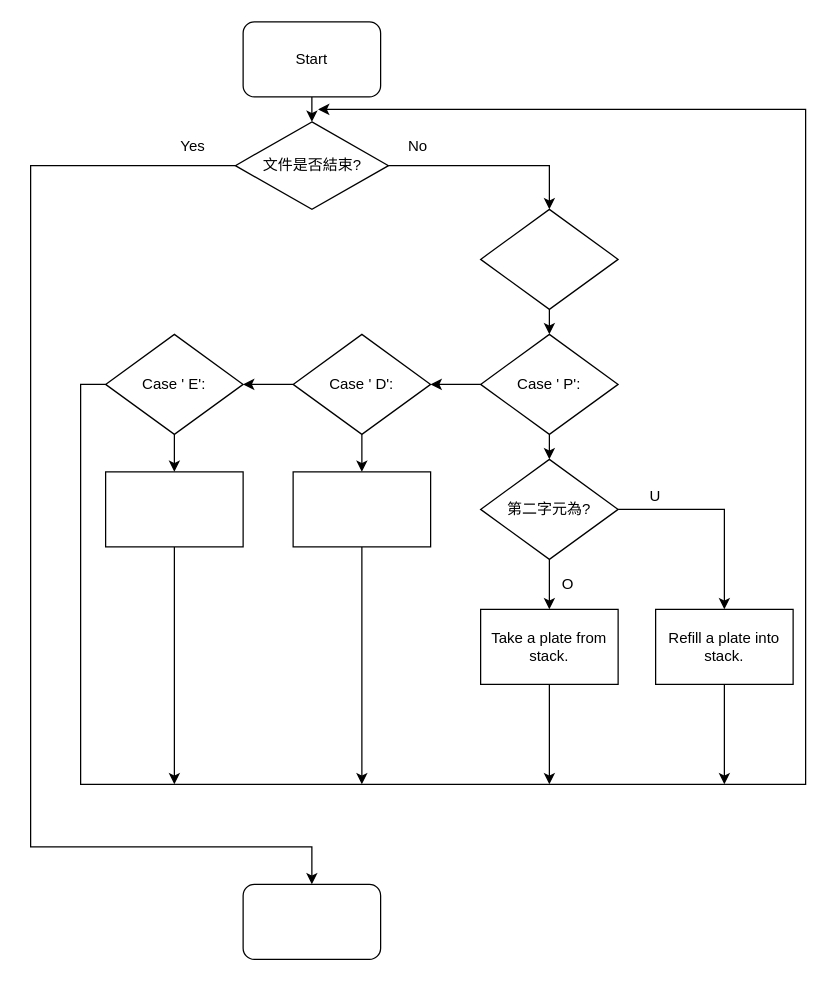
Image size: 838x981. Some labels were removed from this diagram. Each missing label, with the centre of its shape:
End: the point at 311,921
join a line.: the point at 173,509
Leave a line and return the plate.: the point at 361,509
輸入首字元為?: the point at 548,258
